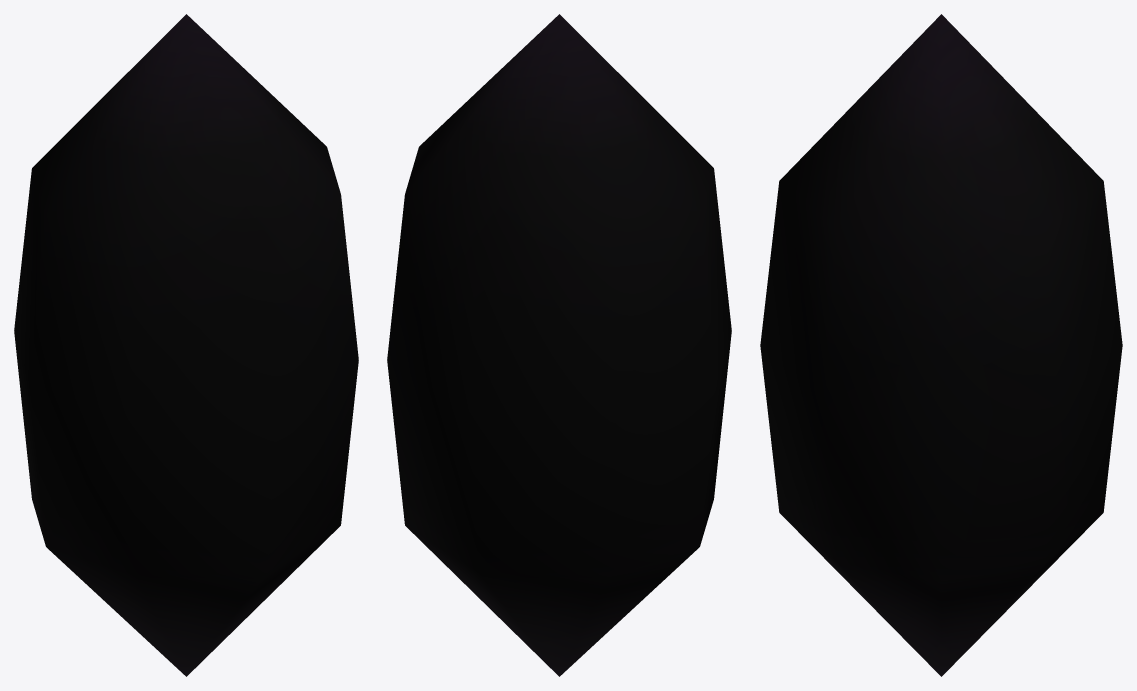
File: COURAGEPOINTS_OLD.fbx
The picture shows the model from 3 angles, left to right: view 1: azimuth 30°, elevation 25°; view 2: azimuth 150°, elevation 25°; view 3: azimuth 270°, elevation 25°; orthographic projection.
Parts seen in each view (by area): view 1: COURAGEPOINTS_OLD; view 2: COURAGEPOINTS_OLD; view 3: COURAGEPOINTS_OLD.
Boxes of the visible parts, x1,y1,x2,y2 form: COURAGEPOINTS_OLD: (14, 14, 358, 676); COURAGEPOINTS_OLD: (387, 14, 731, 676); COURAGEPOINTS_OLD: (760, 14, 1122, 676).
Bounding box in the file's own units: 947 × 1911 × 947.
Materials: 1 (1 with a texture image).
